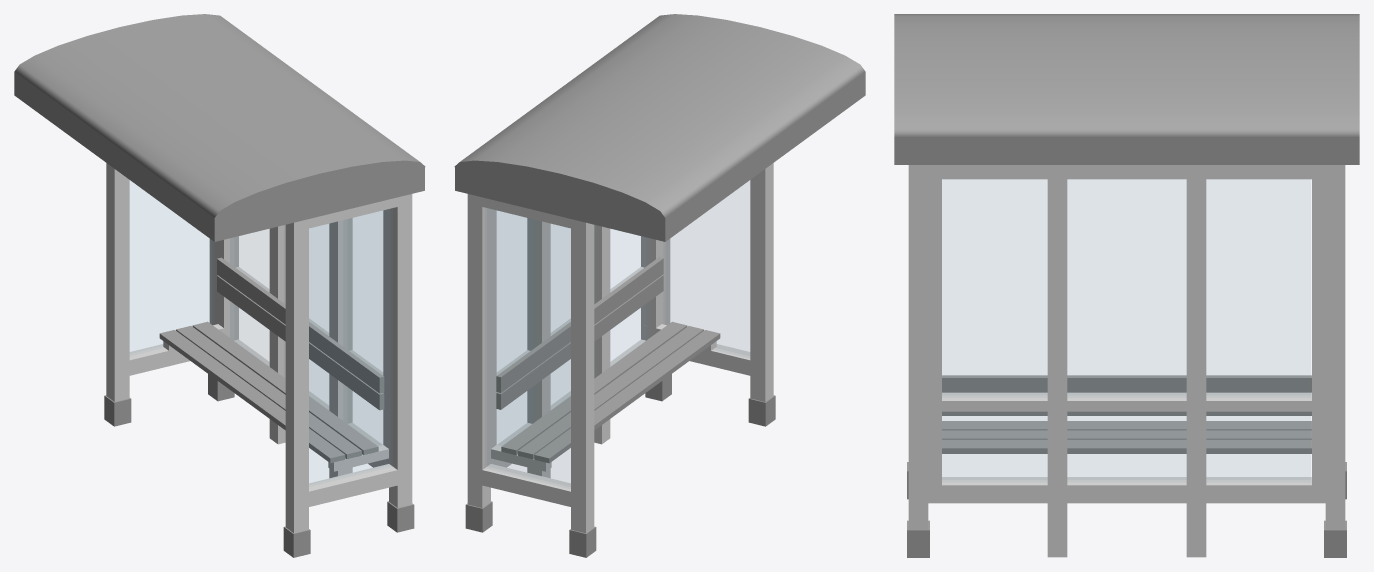
File: BusStop.fbx
The picture shows the model from 3 angles, left to right: view 1: azimuth 30°, elevation 25°; view 2: azimuth 150°, elevation 25°; view 3: azimuth 270°, elevation 25°; orthographic projection. The views are drawn at different scales.
Parts seen in each view (by area): view 1: pCylinder19, Side, Side1, pCube16, pCube37, pCube12, pCube15, pCube14, Back.003, pCube36, pCube31, pCube33 (+15 smaller); view 2: pCylinder19, Side1, Side, pCube15, pCube11, pCube37, pCube16, pCube13, pCube36, pCube31, Back.003, pCube33 (+14 smaller); view 3: Back.003, pCylinder19, pCube37, pCube18, pCube14, pCube13, pCube12, pCube11, pCube30, pCube31, pCube17, pCube33 (+7 smaller).
Part boxes in pixels (left/top/right/bottom): pCylinder19: left=14, top=14, right=425, bottom=224; Side: left=309, top=209, right=389, bottom=483; Side1: left=130, top=181, right=211, bottom=353; pCube16: left=285, top=219, right=308, bottom=533; pCube37: left=14, top=72, right=424, bottom=241; pCube12: left=389, top=194, right=412, bottom=507; pCube15: left=106, top=163, right=129, bottom=401; pCube14: left=329, top=218, right=352, bottom=478; Back.003: left=230, top=229, right=268, bottom=365; pCube36: left=159, top=330, right=345, bottom=463; pCube31: left=217, top=257, right=384, bottom=393; pCube33: left=192, top=321, right=378, bottom=455; pCylinder19: left=454, top=14, right=865, bottom=224; Side1: left=487, top=209, right=570, bottom=486; Side: left=666, top=181, right=749, bottom=355; pCube15: left=571, top=219, right=594, bottom=533; pCube11: left=467, top=194, right=490, bottom=507; pCube37: left=455, top=72, right=865, bottom=241; pCube16: left=750, top=163, right=773, bottom=401; pCube13: left=527, top=218, right=550, bottom=478; pCube36: left=534, top=330, right=720, bottom=463; pCube31: left=496, top=257, right=663, bottom=392; Back.003: left=611, top=229, right=645, bottom=365; pCube33: left=501, top=321, right=687, bottom=455; Back.003: left=942, top=180, right=1310, bottom=479; pCylinder19: left=894, top=14, right=1359, bottom=137; pCube37: left=894, top=138, right=1359, bottom=164; pCube18: left=928, top=477, right=1325, bottom=503; pCube14: left=1047, top=165, right=1067, bottom=557; pCube13: left=1186, top=165, right=1206, bottom=557; pCube12: left=908, top=165, right=928, bottom=529; pCube11: left=1325, top=179, right=1345, bottom=529; pCube30: left=942, top=392, right=1345, bottom=411; pCube31: left=942, top=375, right=1311, bottom=392; pCube17: left=928, top=165, right=1325, bottom=179; pCube33: left=942, top=439, right=1311, bottom=453.
Bounding box in the file's own units: 136 × 237 × 224.
